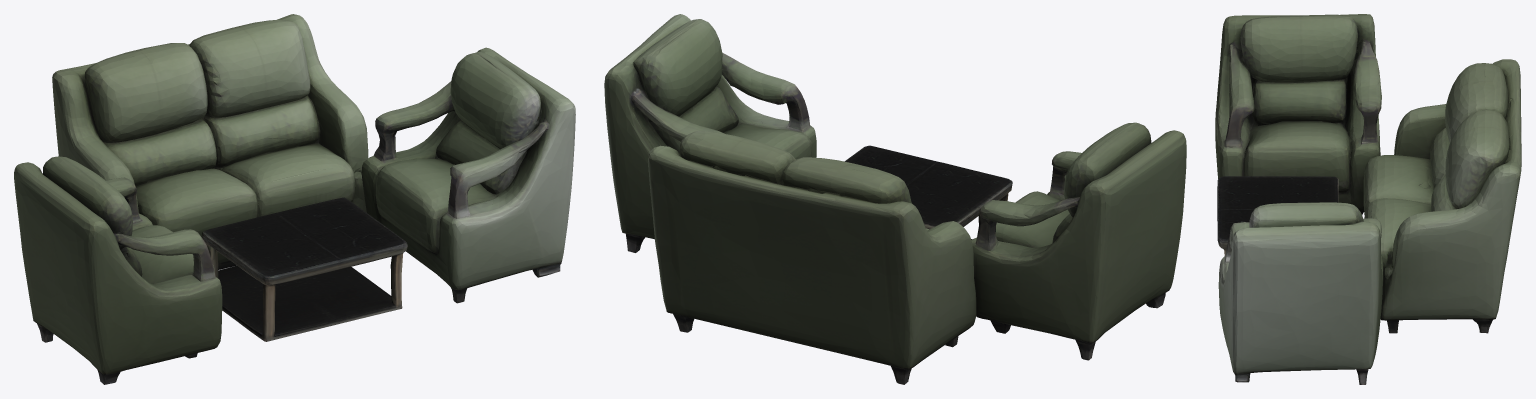
File: aurora_aurora_4pce_lounge_suite_sofa.glb
3 renders of one model, left to right at view 1: azimuth 30°, elevation 25°; view 2: azimuth 150°, elevation 25°; view 3: azimuth 270°, elevation 25°, orthographic. The views are drawn at different scales.
Visible parts, largest first — view 1: world; view 2: world; view 3: world.
Boxes of the visible parts, left/top/right/bottom form: world: left=14, top=14, right=575, bottom=384; world: left=604, top=14, right=1186, bottom=384; world: left=1215, top=14, right=1521, bottom=384.
Bounding box in the file's own units: 0.9982 × 0.3783 × 0.5793.
1 material, 1 textured.
